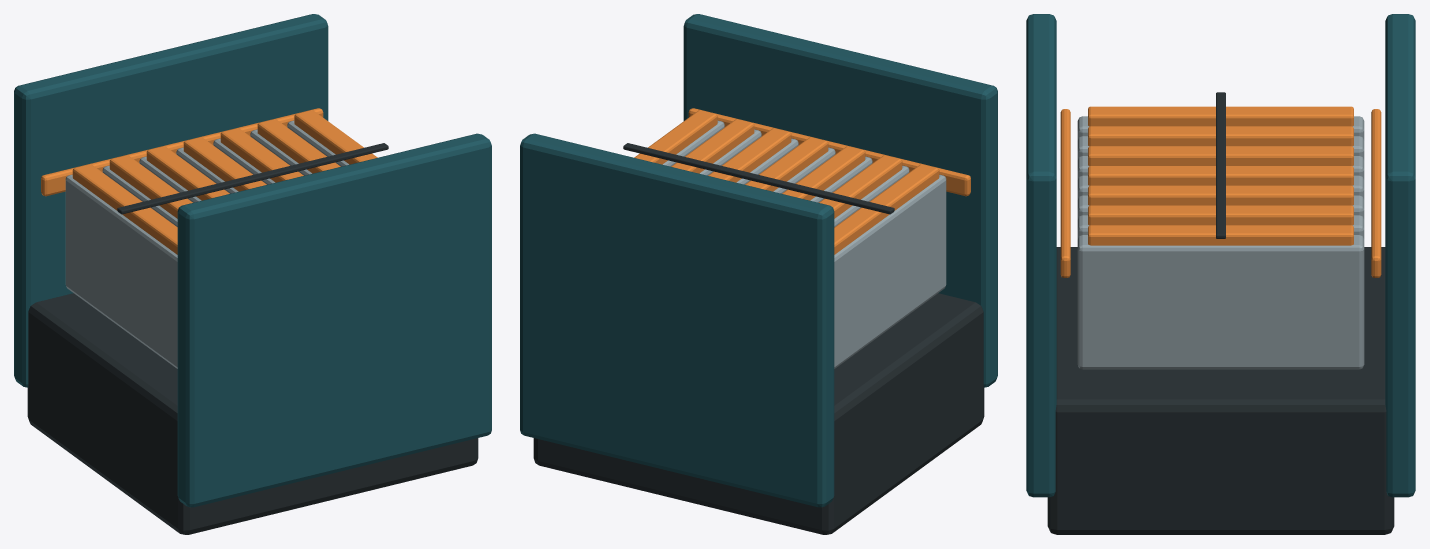
The model's file is SM_LSMStator.fbx.
3 views of the same model, side by side, from view 1: azimuth 30°, elevation 25°; view 2: azimuth 150°, elevation 25°; view 3: azimuth 270°, elevation 25° (orthographic). The views are drawn at different scales.
Visible parts, largest first — view 1: SM_LSMStator_UEExport; view 2: SM_LSMStator_UEExport; view 3: SM_LSMStator_UEExport.
Boxes of the visible parts, x1,y1,x2,y2 form: SM_LSMStator_UEExport: [14, 14, 491, 534]; SM_LSMStator_UEExport: [520, 14, 997, 534]; SM_LSMStator_UEExport: [1026, 14, 1415, 534].
Size of the model in its own units: 96 by 96.5 by 100.
